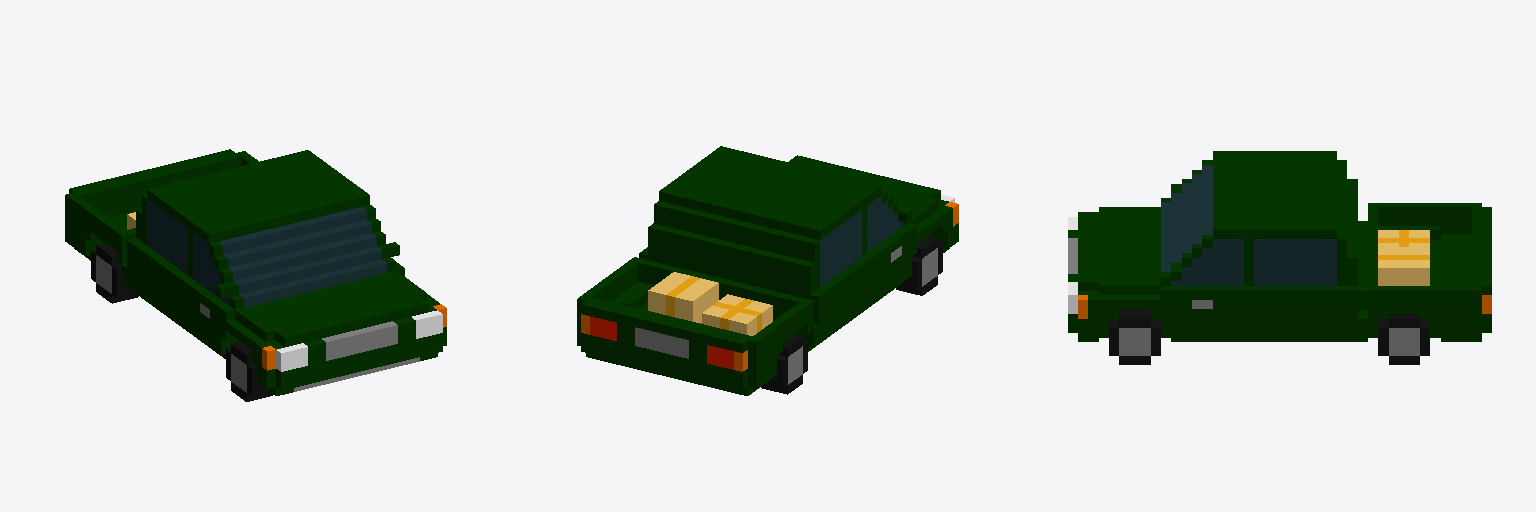
3 views of the same model, side by side, from view 1: azimuth 30°, elevation 25°; view 2: azimuth 150°, elevation 25°; view 3: azimuth 270°, elevation 25° (orthographic).
Parts seen in each view (by area): view 1: object 1; view 2: object 1; view 3: object 1.
Part boxes in pixels (x1,y1,x2,y2): object 1: (65,149,446,401); object 1: (577,146,958,395); object 1: (1068,151,1491,364).
Bounding box in the file's own units: 2 × 1.4 × 4.1.
1 materials, 1 textured.